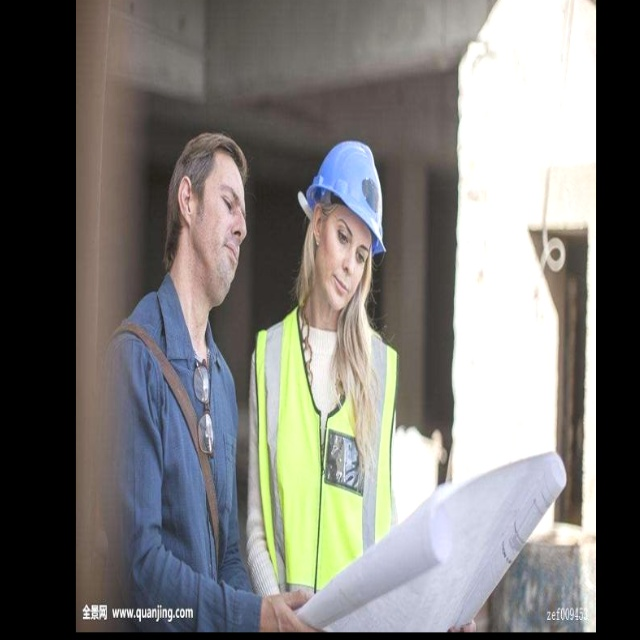Con_Casco: (308, 134, 381, 302)
Con_Chaleco: (247, 315, 394, 572)
Sin_Casco_Mascarrilla: (168, 129, 245, 296)
Sin_Chaleco: (122, 311, 242, 577)
